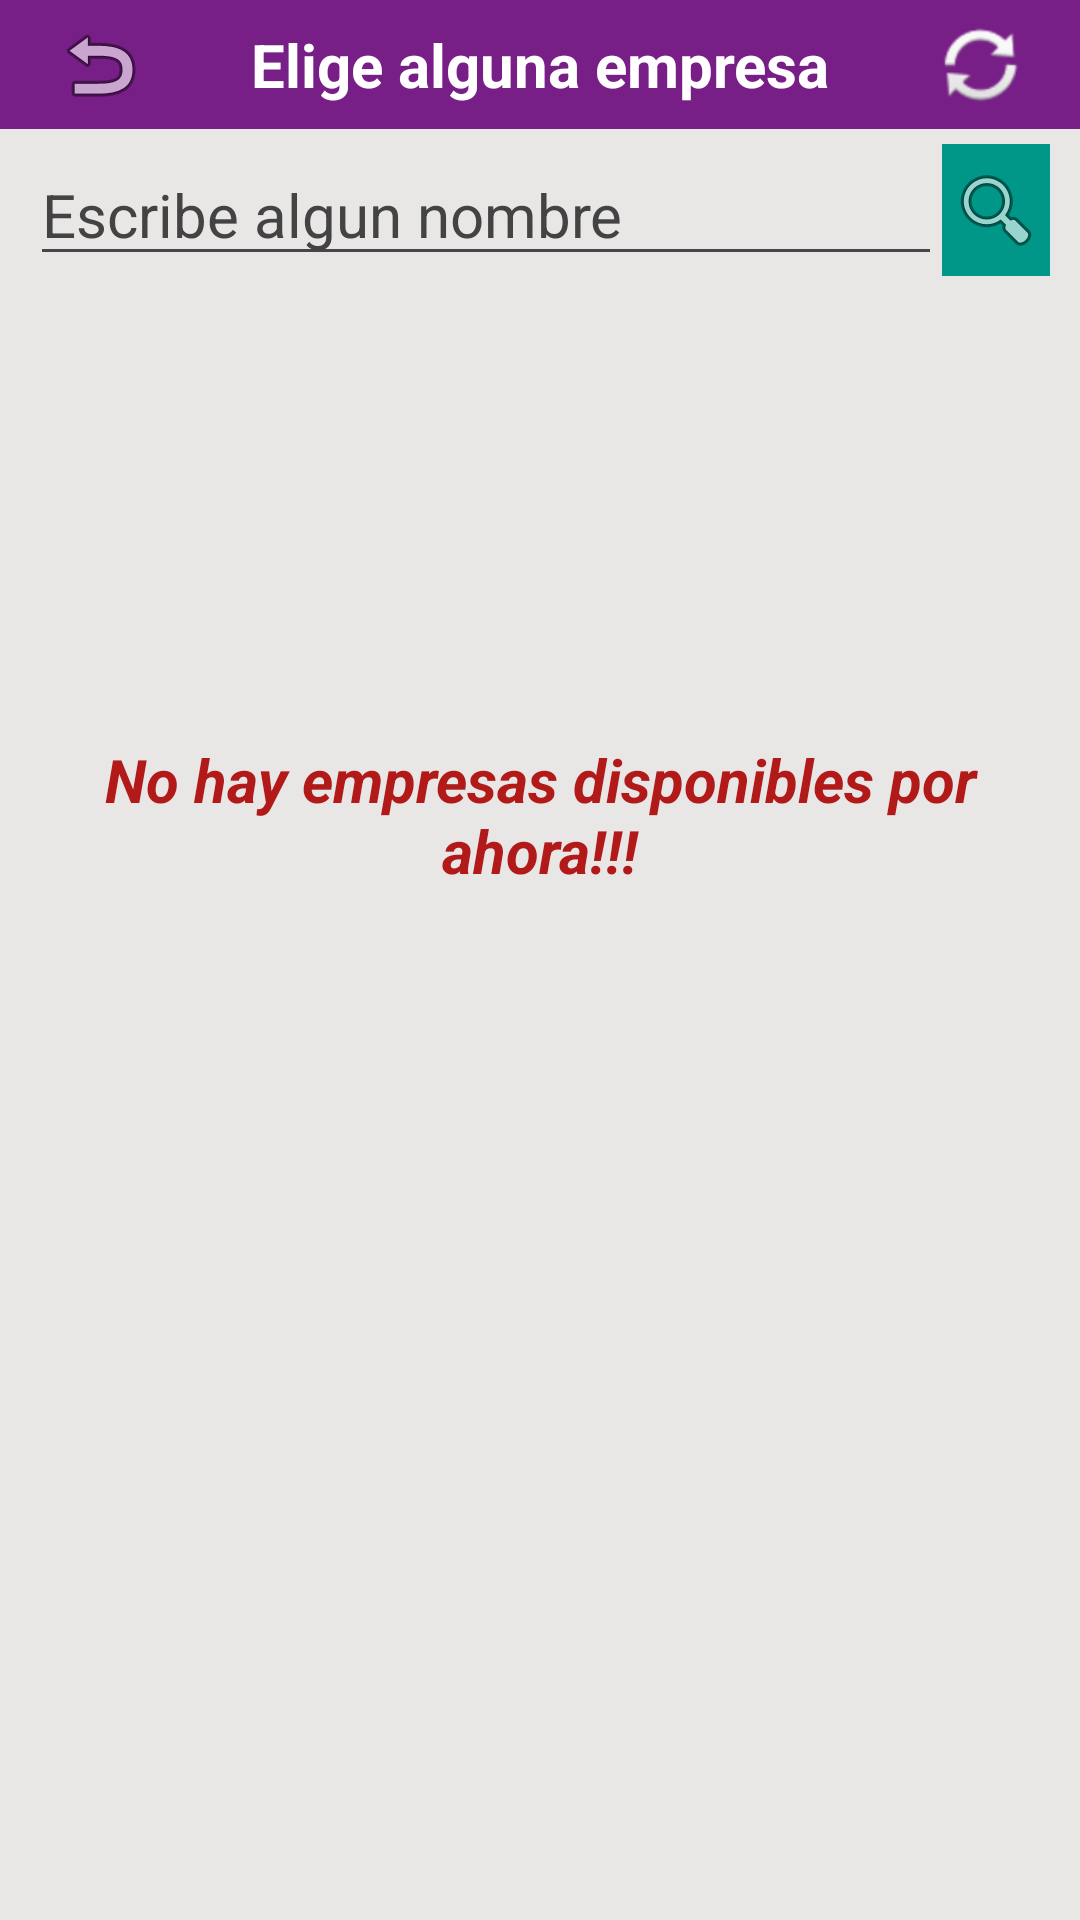

Icon bounding boxes for this 1080px×1920px phone screenshot, format (left=x1, top=y1, right=x2, bottom=y2):
popup sync: (left=944, top=29, right=1017, bottom=101)
revert: (left=67, top=35, right=136, bottom=97)
search: (left=942, top=144, right=1050, bottom=276)
